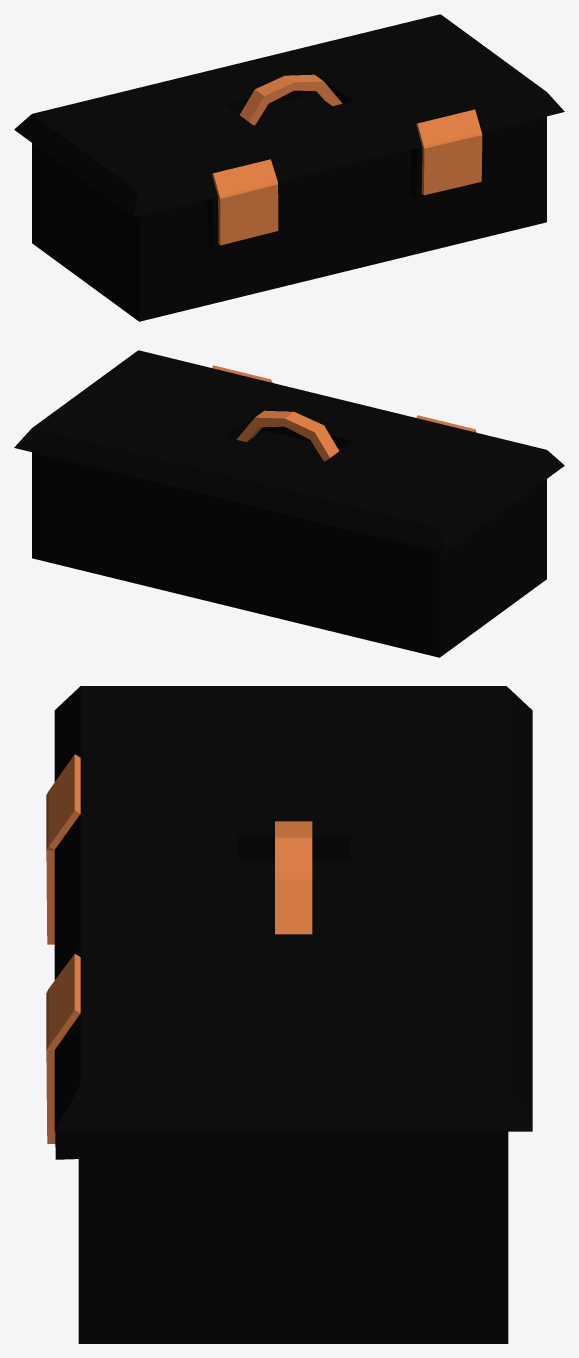
The model's file is CajaHerramientas.fbx.
3 views of the same model, one above another, from view 1: azimuth 30°, elevation 25°; view 2: azimuth 150°, elevation 25°; view 3: azimuth 270°, elevation 25° (orthographic). The views are drawn at different scales.
Visible parts, largest first — view 1: CajaHerramientas; view 2: CajaHerramientas; view 3: CajaHerramientas.
Part boxes in pixels (x1=…): CajaHerramientas: x1=14, y1=14, x2=564, y2=321; CajaHerramientas: x1=14, y1=350, x2=564, y2=657; CajaHerramientas: x1=46, y1=686, x2=532, y2=1343.
Size of the model in its own units: 464 by 158 by 226.
